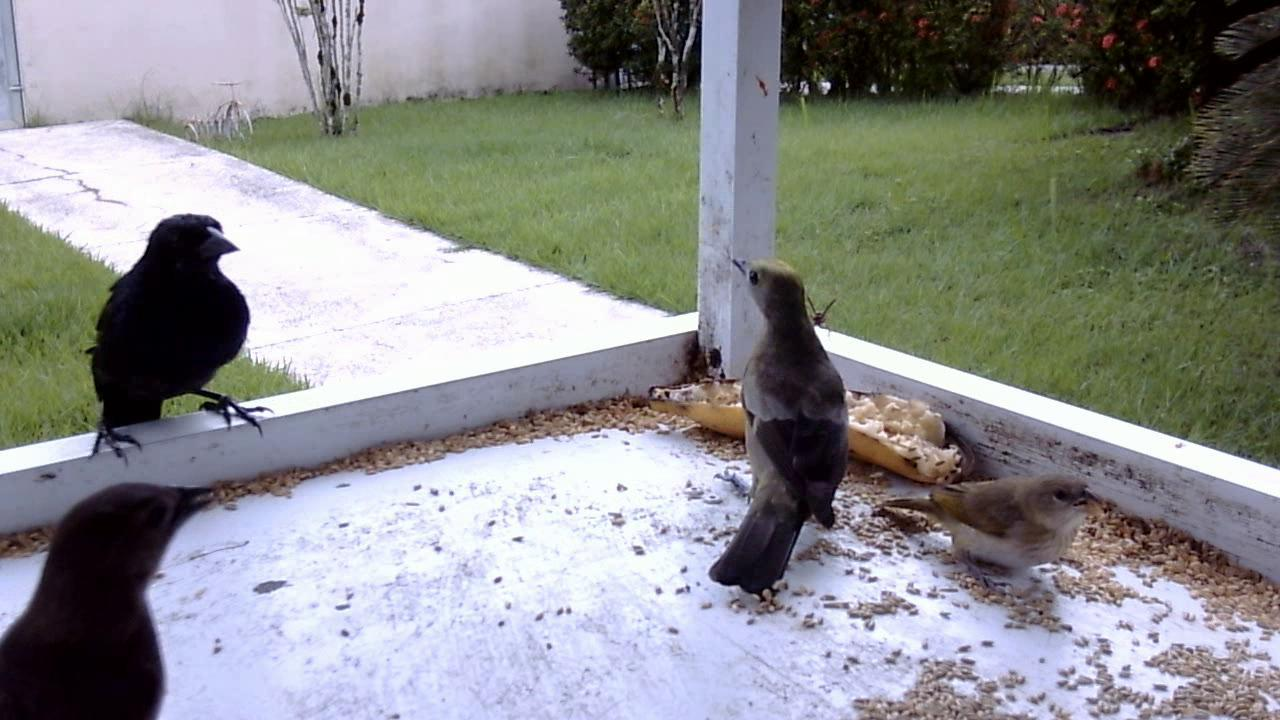canario_do_amazonas: (866, 463, 1103, 593)
chupim: (1, 467, 239, 715), (77, 206, 279, 467)
sanhaco_do_coqueiro: (706, 255, 854, 604)
